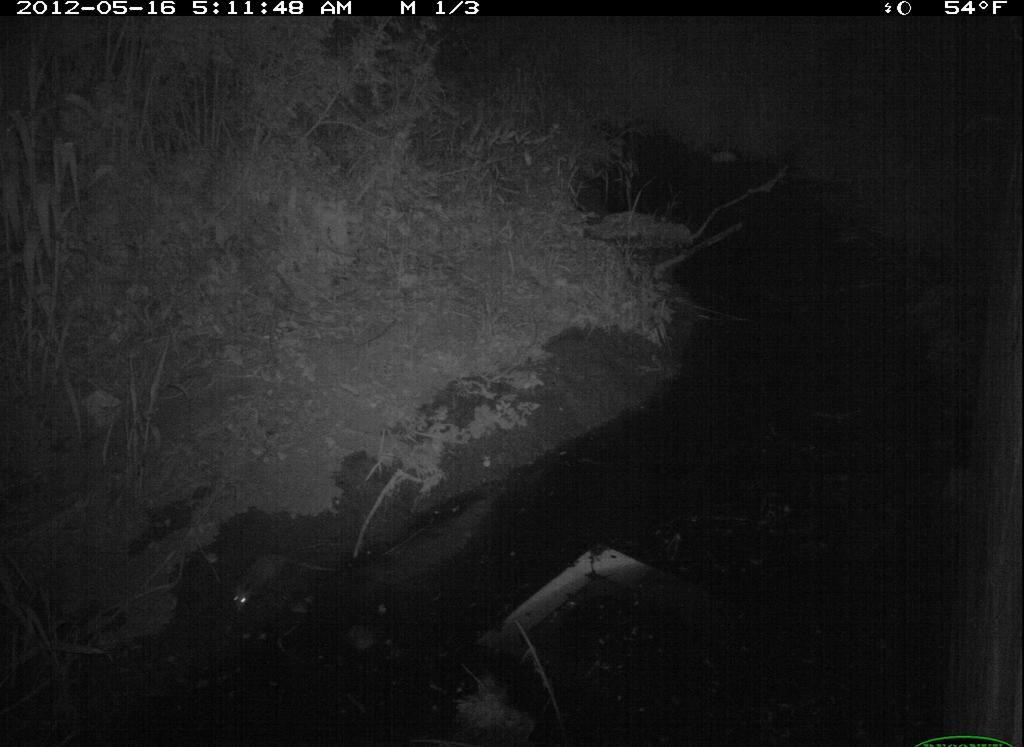opossum: (219, 533, 305, 620)
